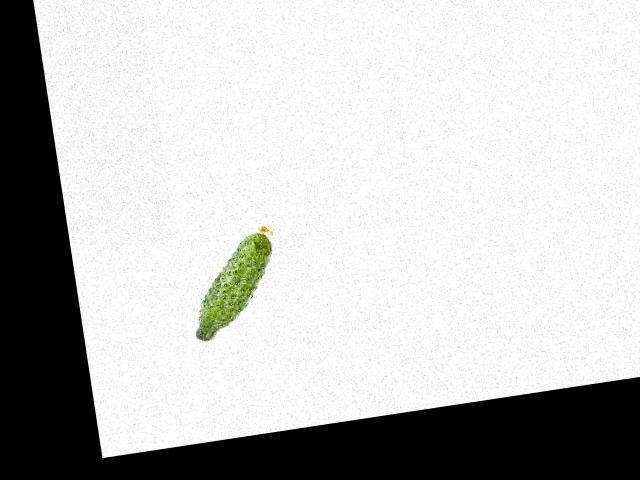cucumber: (180, 224, 286, 341)
